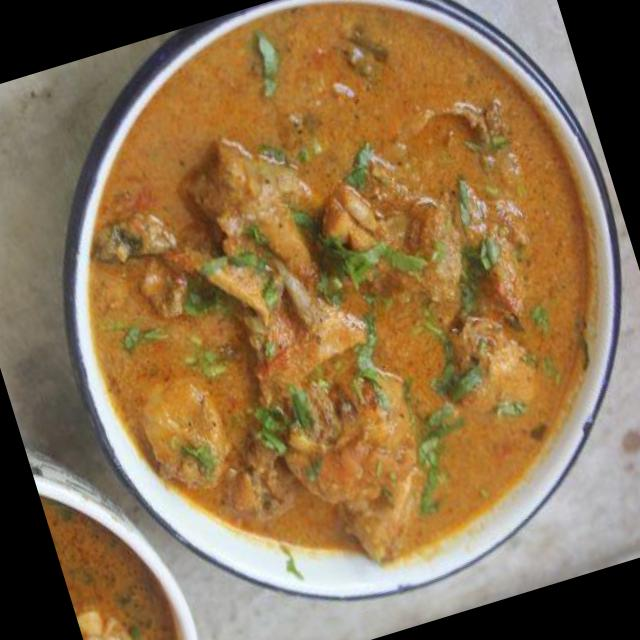chicken: (25, 0, 640, 617), (39, 465, 206, 640)
